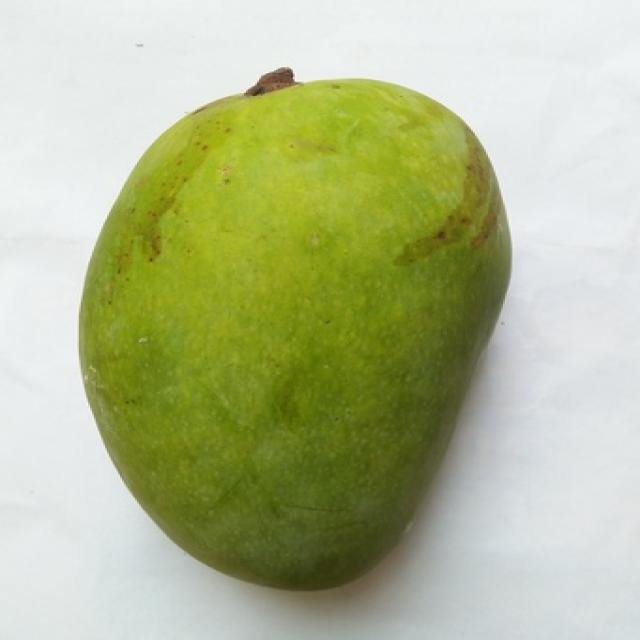Mango: (79, 79, 507, 590)
